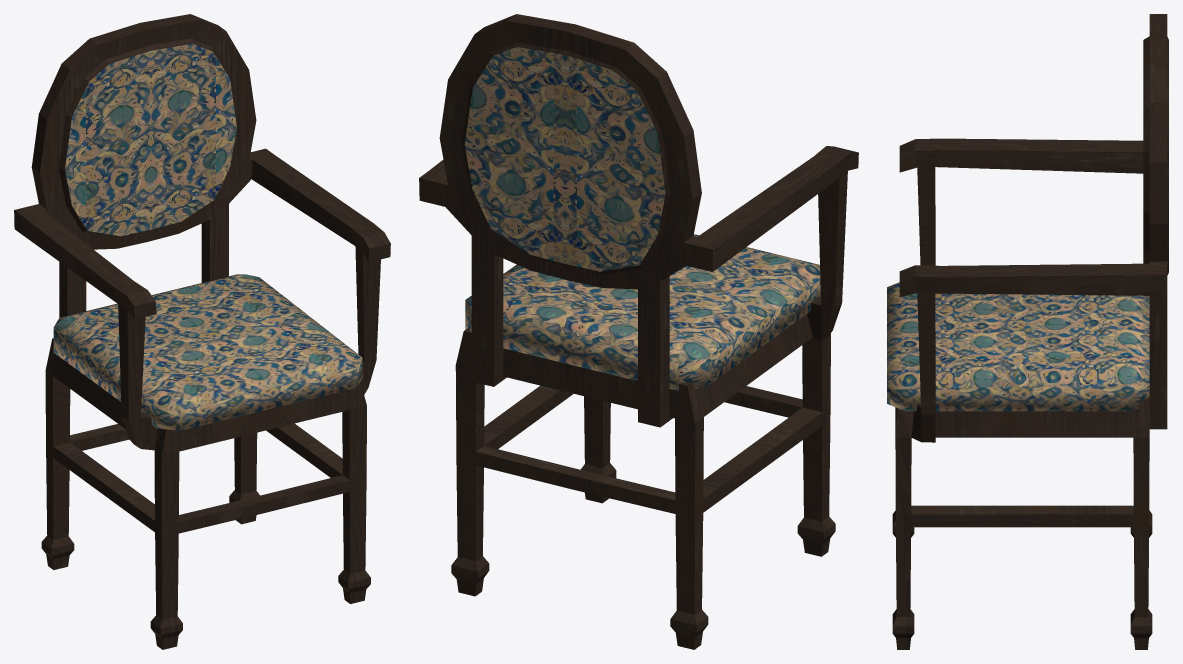
File: chair_2.glb
3 renders of one model, left to right at view 1: azimuth 30°, elevation 25°; view 2: azimuth 150°, elevation 25°; view 3: azimuth 270°, elevation 25°, orthographic. The views are drawn at different scales.
Parts seen in each view (by area): view 1: DinnerChair, DinnerChairCushion; view 2: DinnerChair, DinnerChairCushion; view 3: DinnerChair, DinnerChairCushion.
Part boxes in pixels (left/top/right/bottom): DinnerChair: left=14, top=14, right=390, bottom=649; DinnerChairCushion: left=53, top=274, right=362, bottom=430; DinnerChair: left=419, top=14, right=858, bottom=649; DinnerChairCushion: left=465, top=234, right=820, bottom=390; DinnerChair: left=892, top=14, right=1168, bottom=649; DinnerChairCushion: left=887, top=282, right=1149, bottom=411.
Size of the model in its own units: 0.4236 by 0.7959 by 0.3638.
2 materials, 2 textured.
